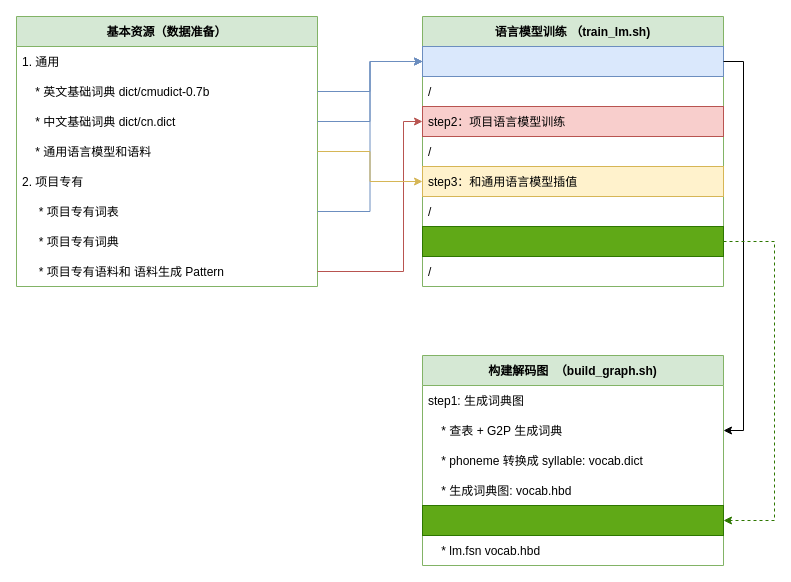
Some shapes in this 791 by 582 pixel diagram are drawn without their labels. Each missing label, with the centre of its shape:
"step1: 准备 LM 训练词典 lm.vocab" belongs at point 573,61.
"step2: 构建最终解码图" belongs at point 573,520.
"step4: 转换成 FSN 格式 lm.fsn" belongs at point 573,241.
